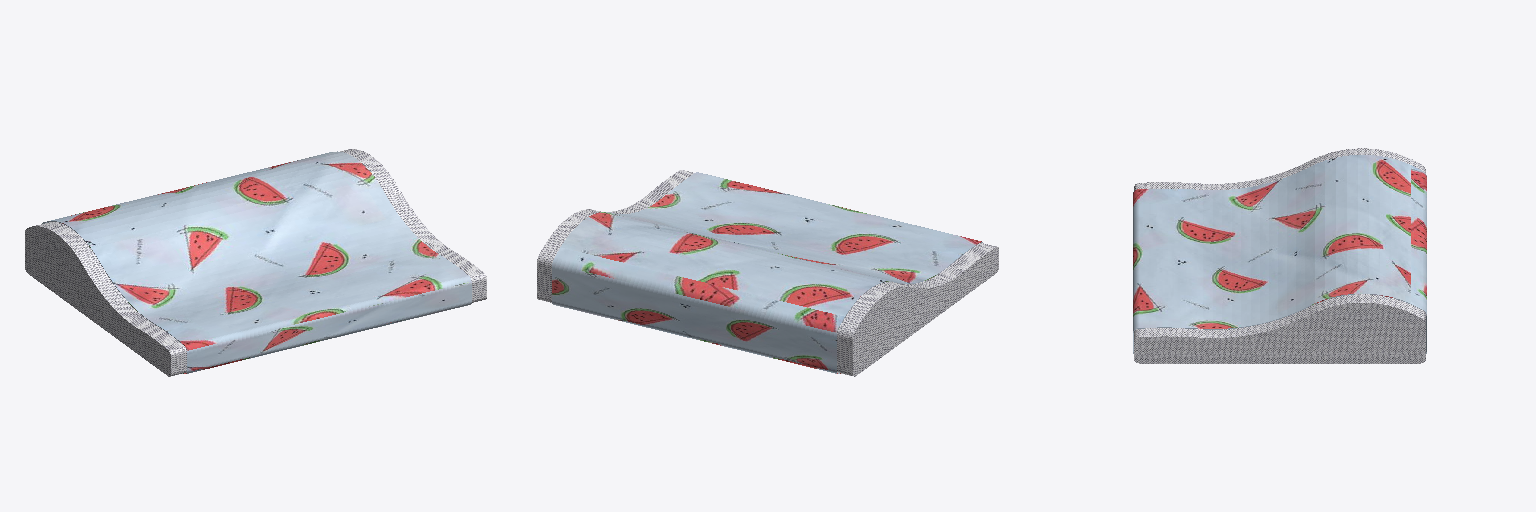
The picture shows the model from 3 angles: view 1: azimuth 30°, elevation 25°; view 2: azimuth 150°, elevation 25°; view 3: azimuth 270°, elevation 25°; orthographic projection.
Parts seen in each view (by area): view 1: pillow5.001; view 2: pillow5.001; view 3: pillow5.001.
Boxes of the visible parts, box(x1,y1,x2,y2) form: pillow5.001: box(25, 149, 486, 376); pillow5.001: box(537, 170, 998, 376); pillow5.001: box(1133, 148, 1426, 363).
Bounding box in the file's own units: 5.67 × 1.09 × 4.58.
Materials: 2 (2 with a texture image).